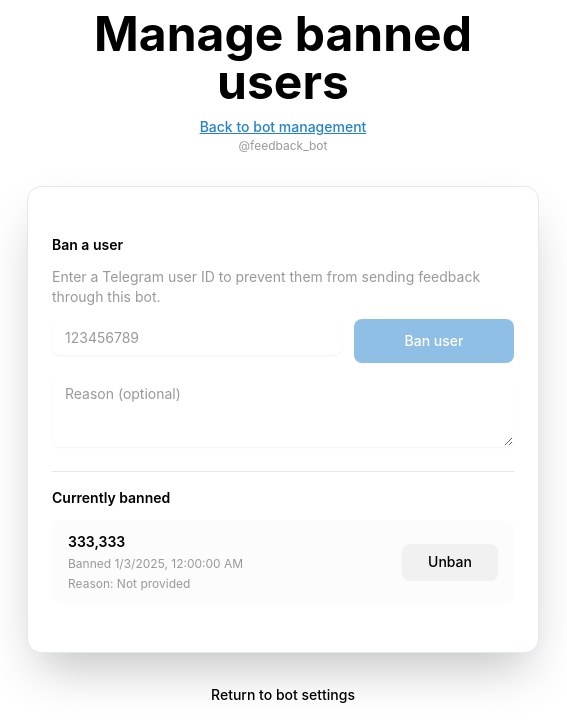
Scenario: bot banned users page › unbans a user and refreshes the list
Step 1. Click the button "Unban" → {"x": 450, "y": 562}, box [402,544,498,580]
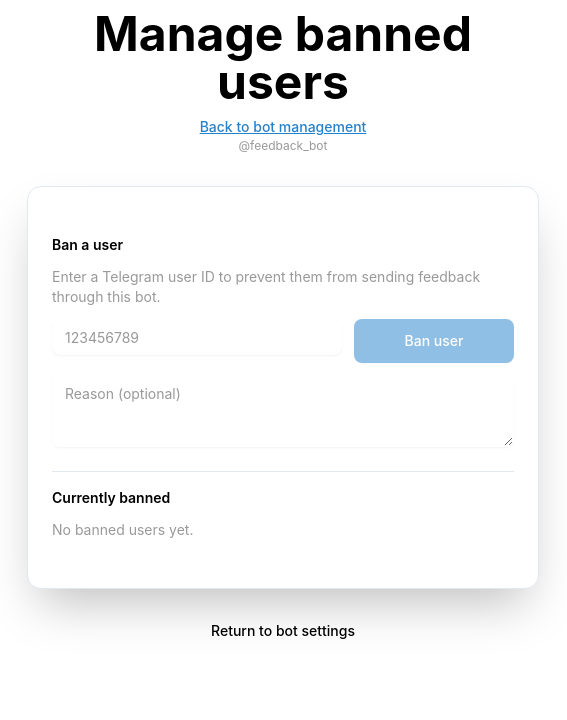
Result: the text "333,333" is gone
